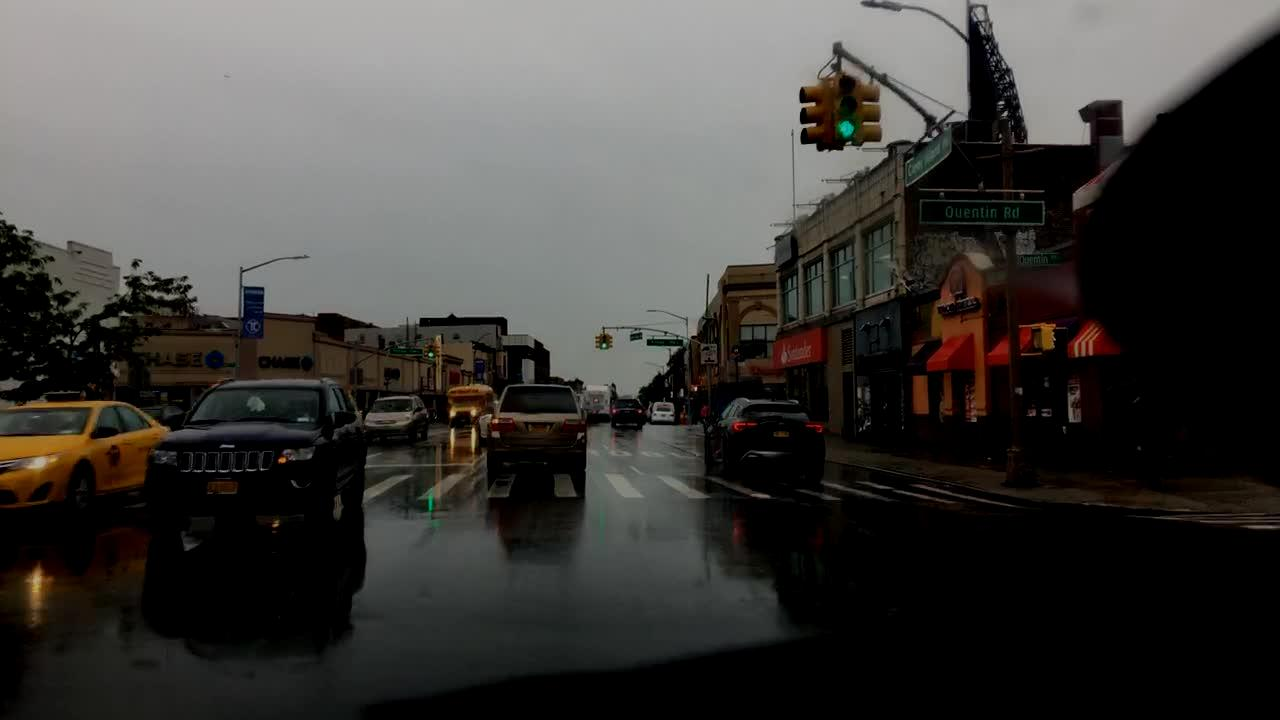jeep: (214, 439, 239, 454)
